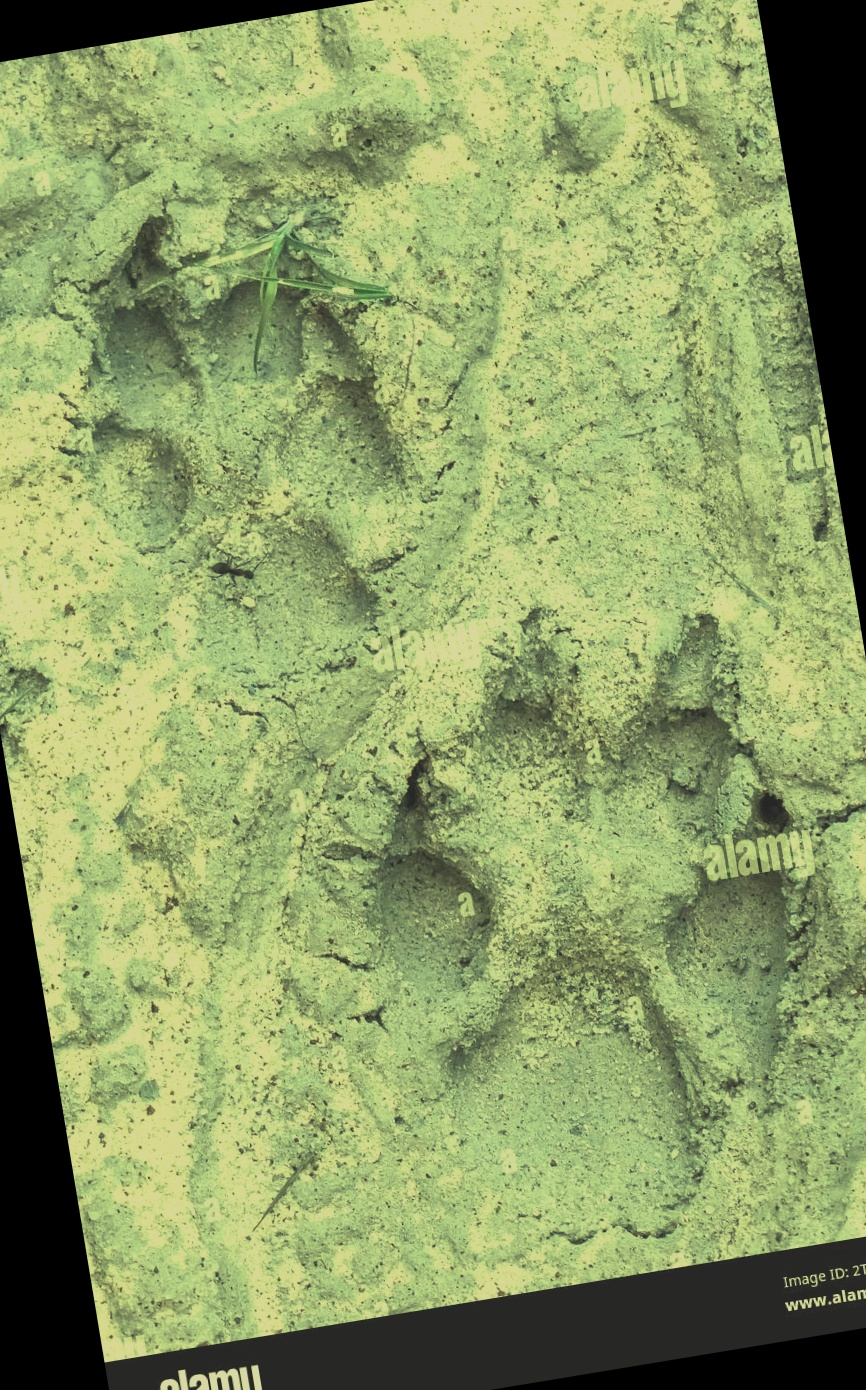loup: (303, 607, 788, 1296), (65, 143, 493, 686)
